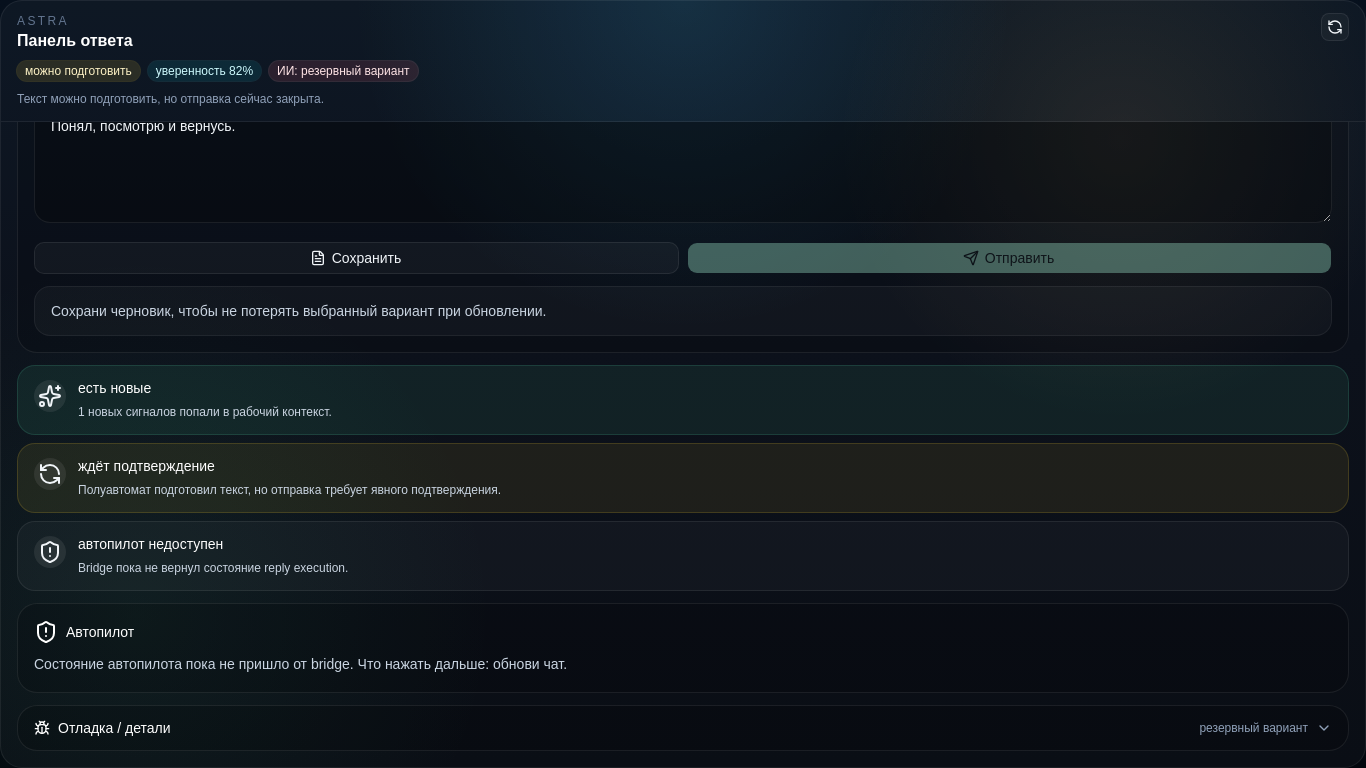
Test: ReplyPanel › renders a collapsed llm debug block with rejected candidate details
This screenshot has width=1366, height=768.
(page scrolled)
expect the text "Отладка / детали" is shown: met, box top-left (34, 718), bottom-right (170, 738)
expect the text "Trigger backend:" is not shown: met
Click the button "Отладка / детали резервный вариант": (114, 728) top-left (18, 706), bottom-right (1348, 750)
(page scrolled)
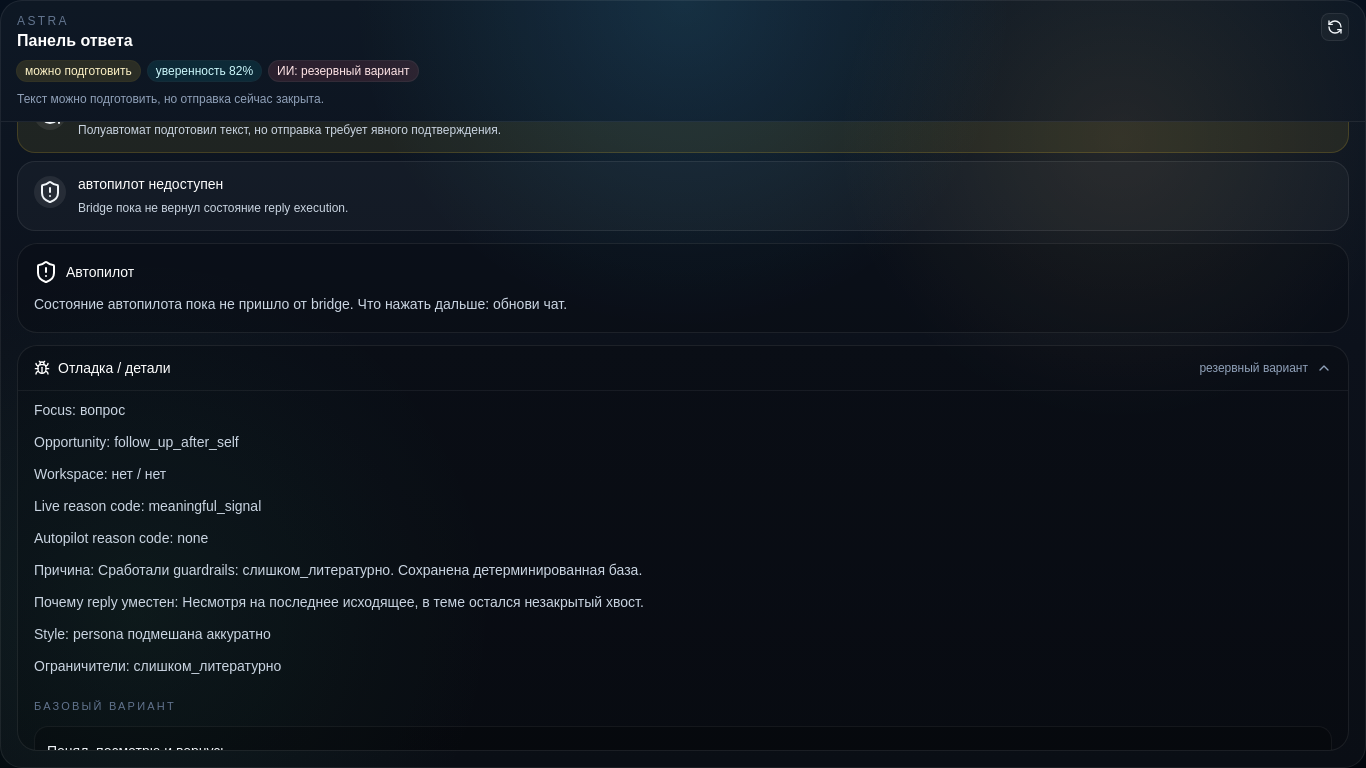
expect the text "детерминированная база" is shown: met, box top-left (98, 562), bottom-right (642, 578)
